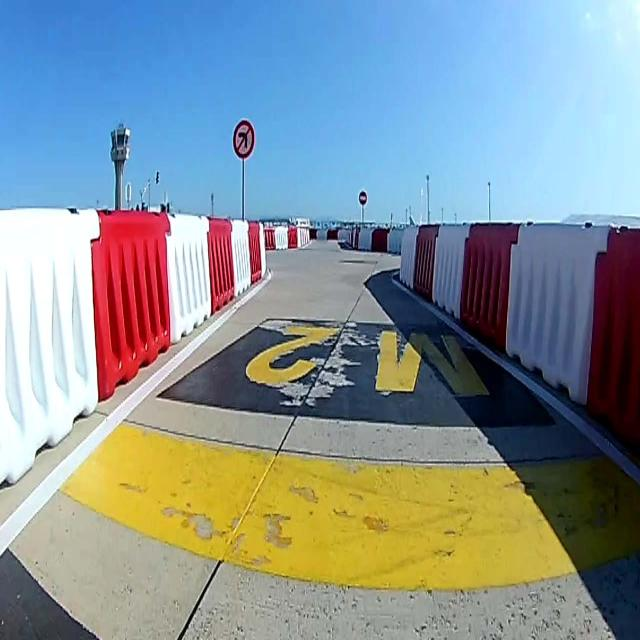girisyok: (356, 187, 369, 208)
soladonulmez: (232, 118, 254, 158)
